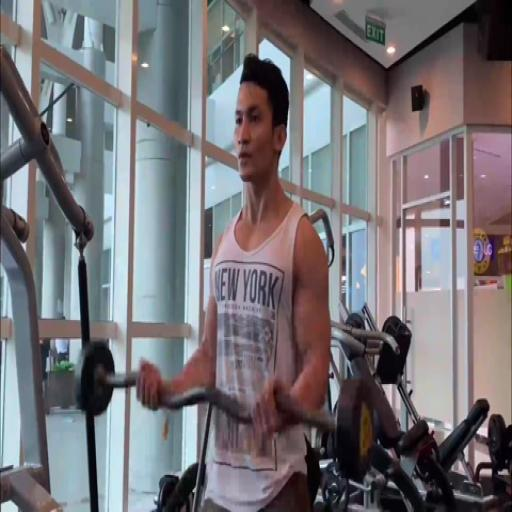exercise: (134, 51, 334, 511)
